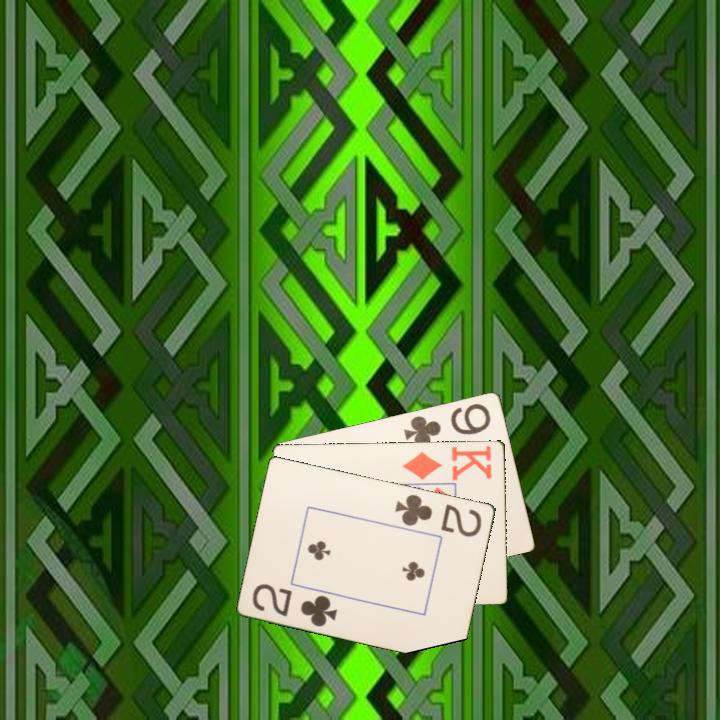2c: (392, 490, 485, 540), (249, 580, 340, 630)
9c: (400, 399, 494, 450)
Kd: (399, 442, 495, 482)
